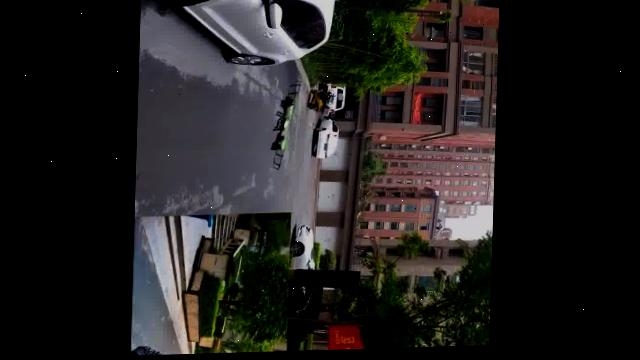drone: (257, 80, 306, 185)
